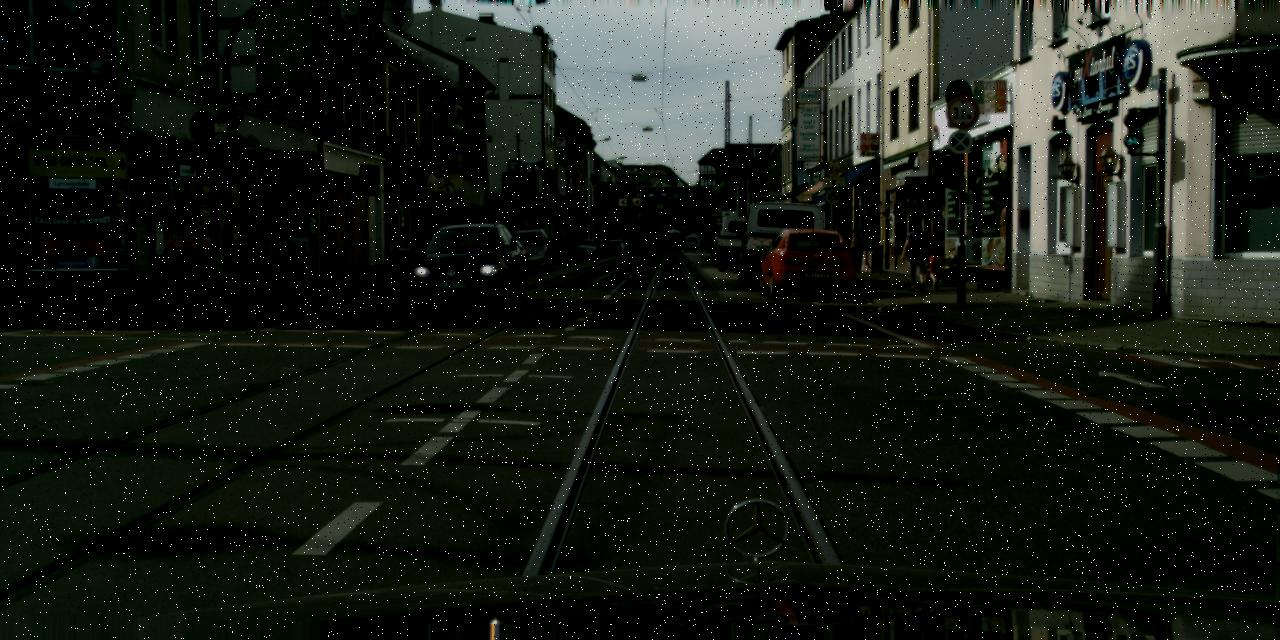ped: (900, 218, 944, 292), (847, 227, 865, 271)
